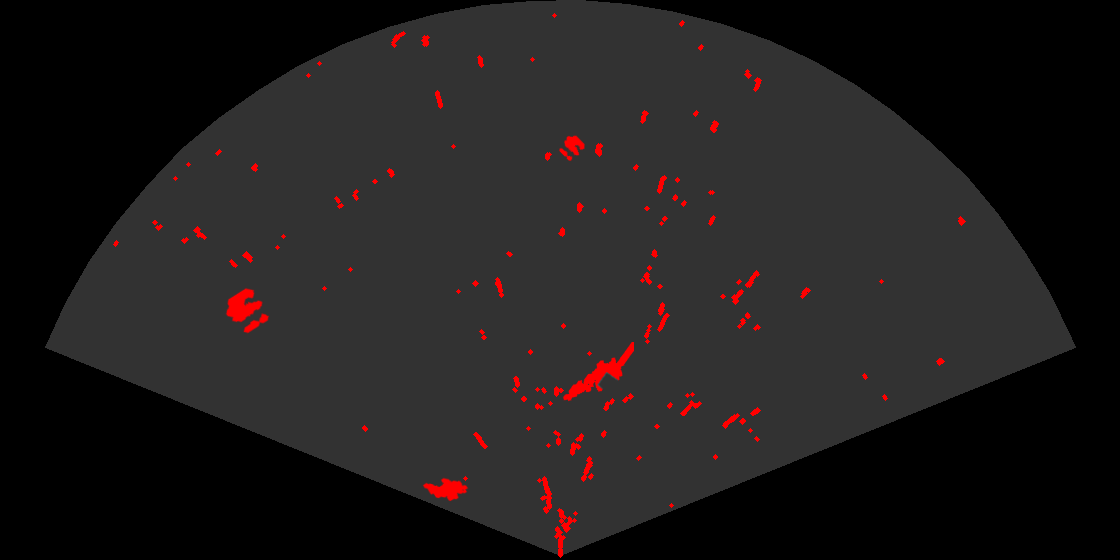AUV: (421, 476, 470, 503)
ball: (224, 286, 271, 335), (557, 134, 586, 163)
frogman: (561, 342, 634, 403)
